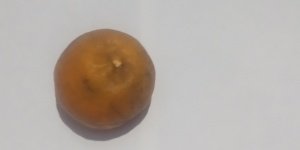BAD: (53, 30, 158, 130)
